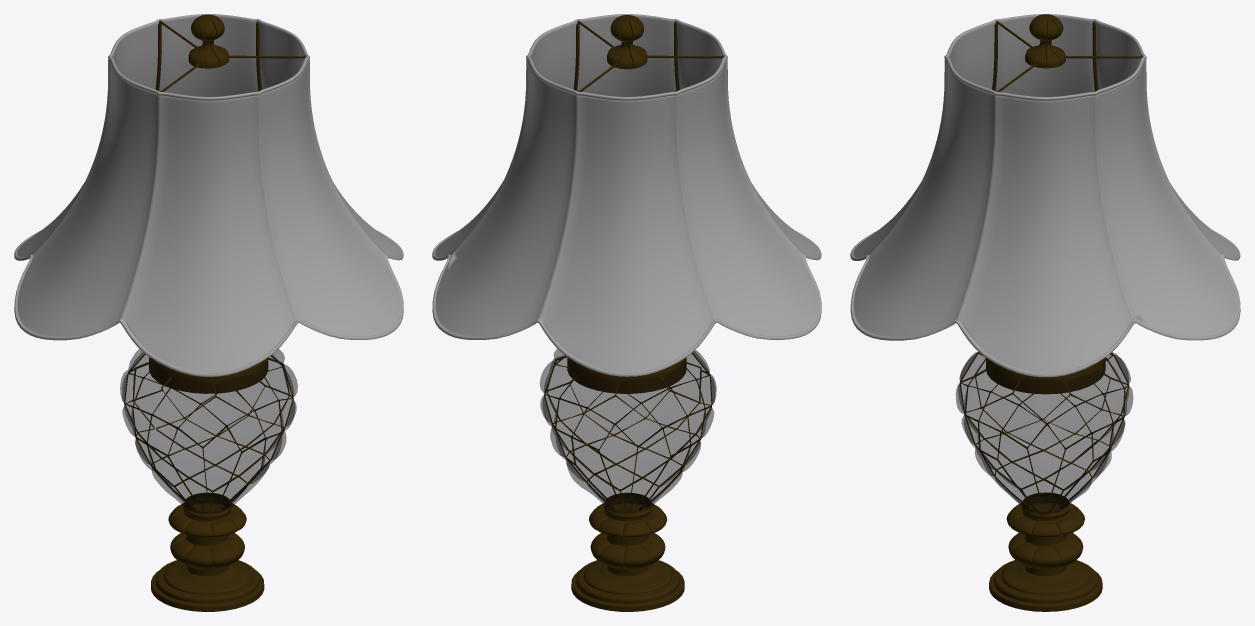
File: LampV2.fbx
3 renders of one model, left to right at view 1: azimuth 30°, elevation 25°; view 2: azimuth 150°, elevation 25°; view 3: azimuth 270°, elevation 25°, orthographic.
Visible parts, largest first — view 1: table lamp; view 2: table lamp; view 3: table lamp.
Part boxes in pixels (x1,y1,x2,y2): table lamp: [14, 14, 403, 611]; table lamp: [432, 14, 821, 611]; table lamp: [850, 14, 1240, 611].
Size of the model in its own units: 43091 by 64009 by 39491.
